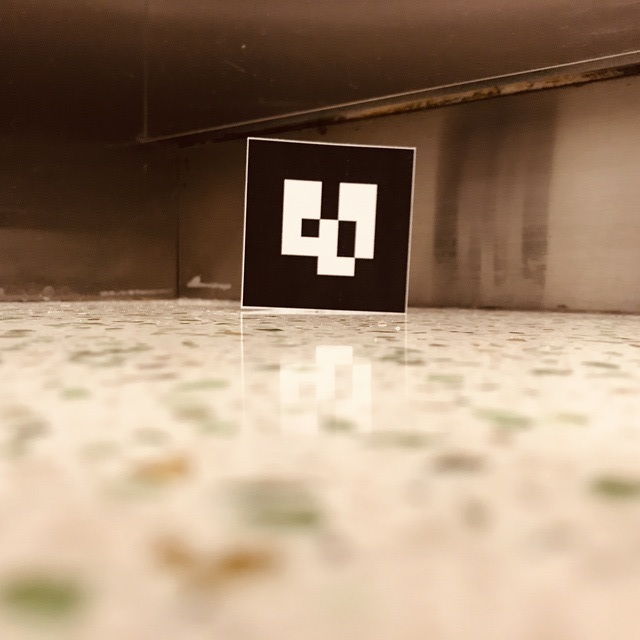ARTag: (240, 135, 417, 314)
